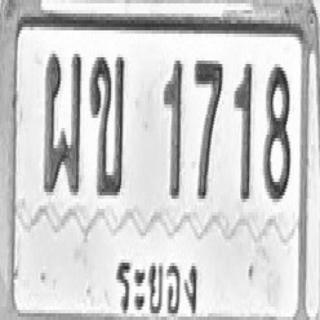A02: (89, 54, 125, 196)
A28: (43, 49, 82, 194)
N01: (163, 57, 183, 199), (234, 60, 253, 202)
N07: (194, 57, 223, 199)
N08: (263, 64, 290, 199)
P53: (108, 245, 203, 317)
